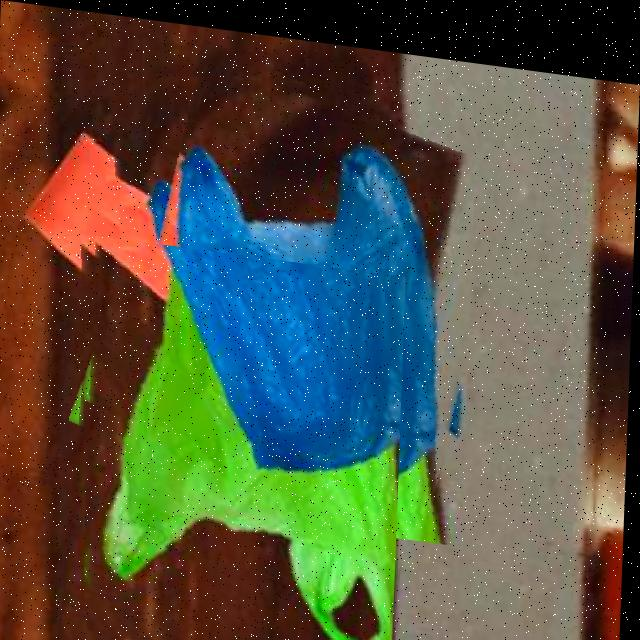plasticcover: (95, 42, 477, 533), (68, 231, 407, 640)
